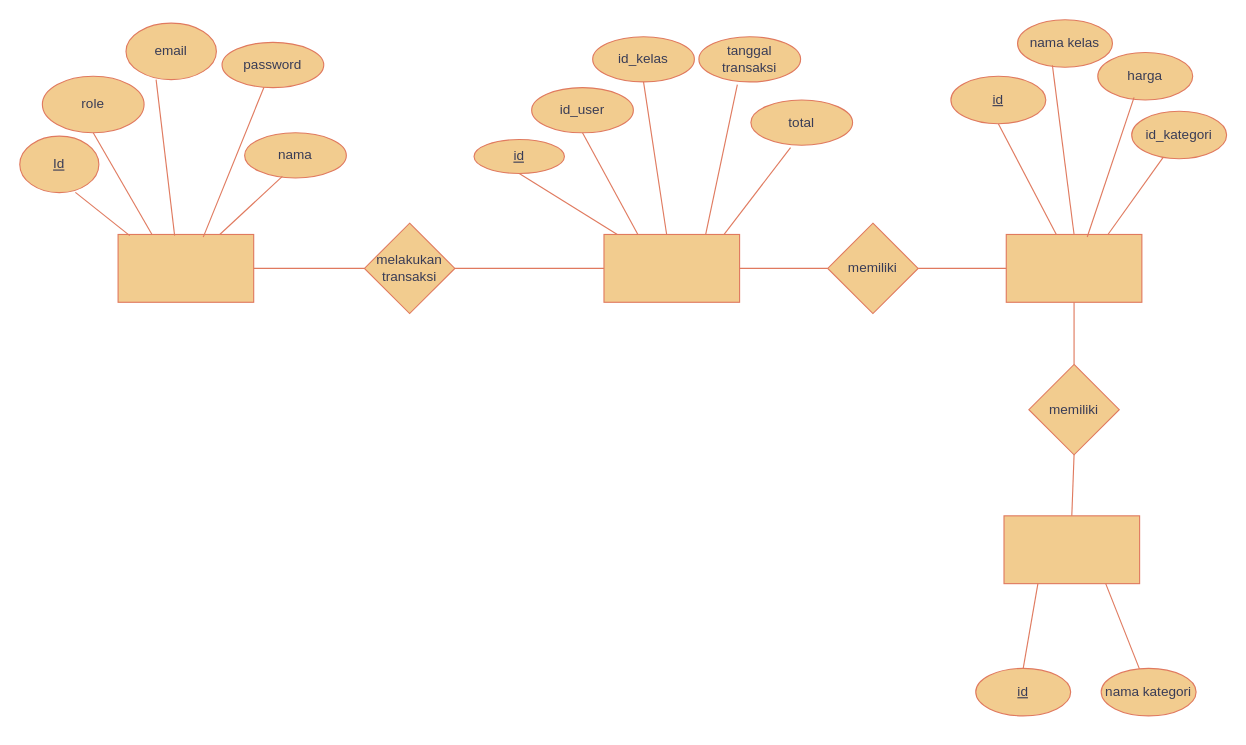
Image size: 1246x745. Some labels were removed from this diagram. The box of each missing label's shape, as (x1, y1, x2, y2) in pixels:
kategori: (1003, 515, 1140, 584)
kelas: (1005, 233, 1142, 302)
transaksi: (603, 233, 740, 302)
user: (117, 233, 254, 302)
